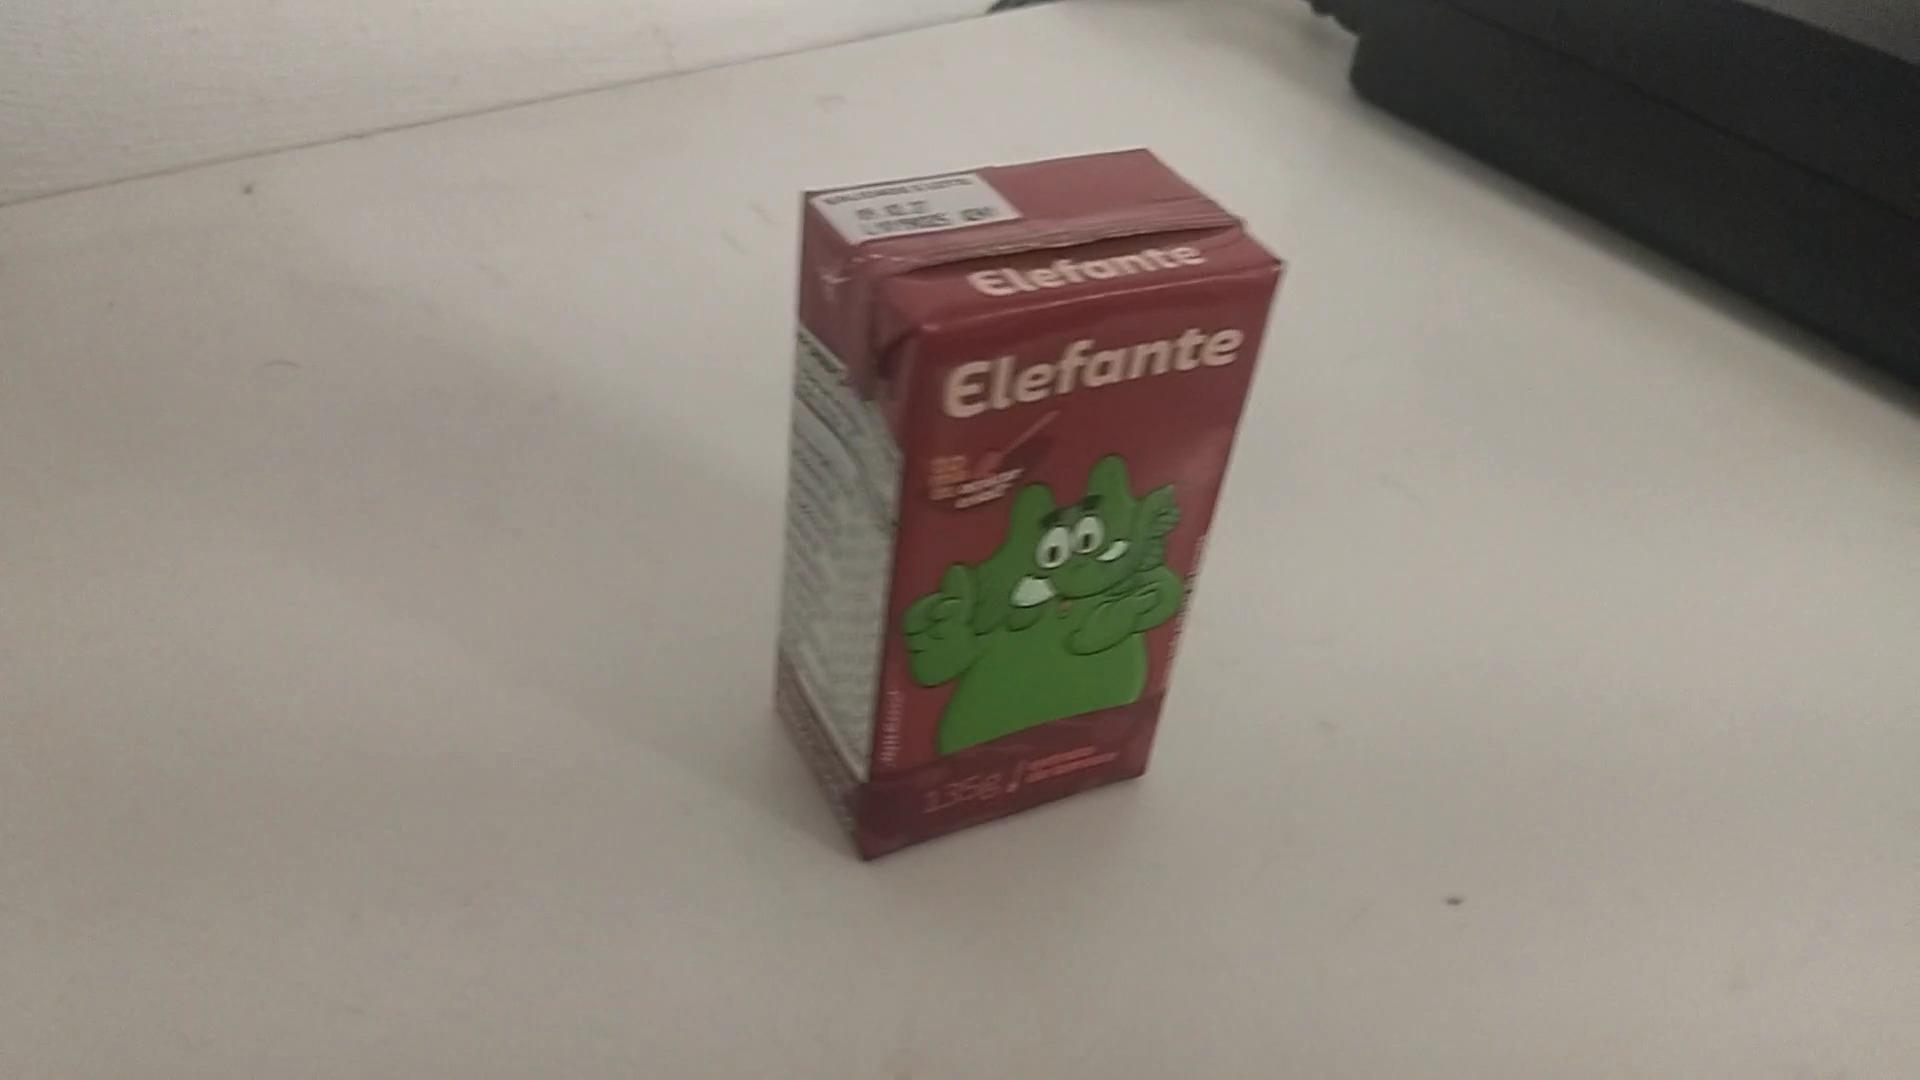tomate: (767, 123, 1302, 855)
